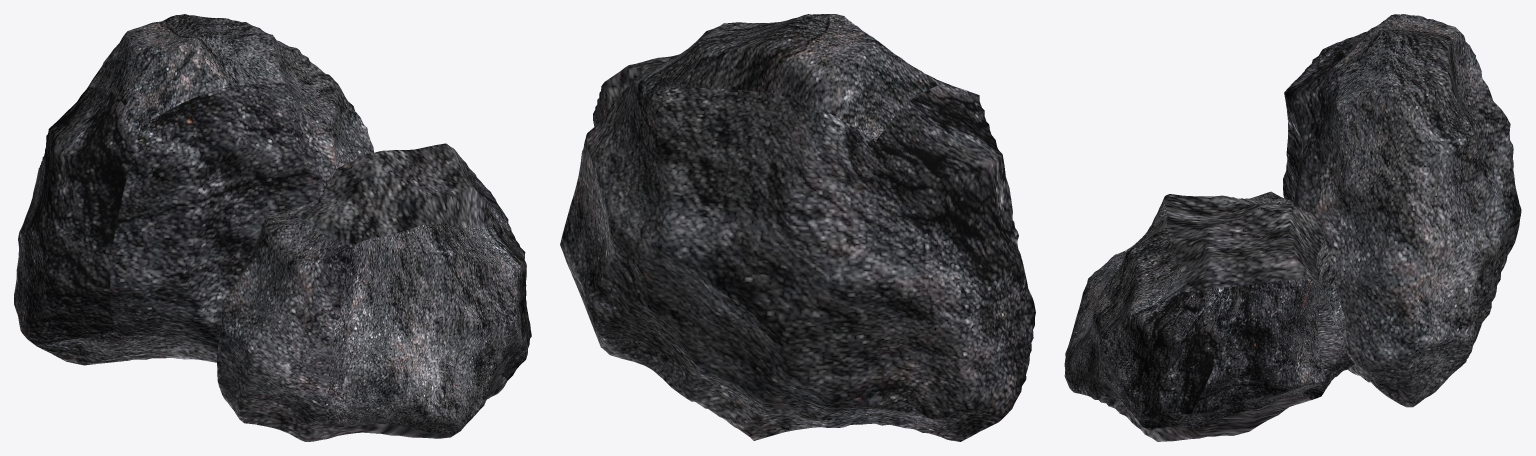
The model's file is Pedra_Grande_Textured.fbx.
3 views of the same model, side by side, from view 1: azimuth 30°, elevation 25°; view 2: azimuth 150°, elevation 25°; view 3: azimuth 270°, elevation 25° (orthographic). The views are drawn at different scales.
Visible parts, largest first — view 1: Cube, Cube.001; view 2: Cube, Cube.001; view 3: Cube, Cube.001.
Part boxes in pixels (bbox=[...]): Cube: bbox=[14, 14, 374, 365]; Cube.001: bbox=[216, 143, 531, 441]; Cube: bbox=[560, 14, 1035, 441]; Cube.001: bbox=[593, 54, 1018, 241]; Cube: bbox=[1283, 14, 1521, 407]; Cube.001: bbox=[1064, 191, 1354, 441].
Bounding box in the file's own units: 405 × 327 × 396.
1 material, 1 textured.
